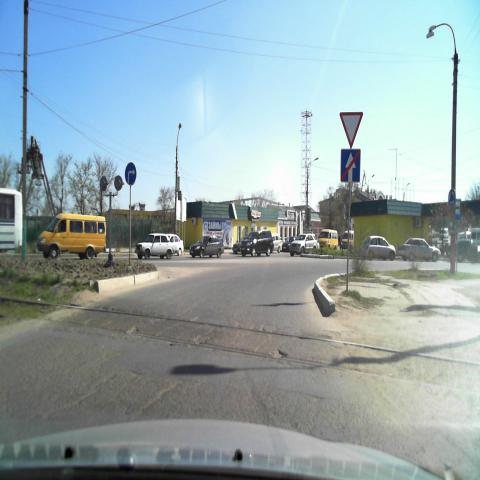2_4: (340, 110, 364, 150)
4_1_2: (124, 162, 138, 186)
4_3: (448, 187, 456, 205)
5_16: (455, 199, 461, 221)
5_6: (340, 148, 360, 184)
